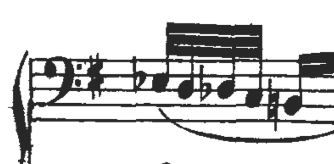bass_clef: (36, 45, 86, 114)
sharp: (84, 53, 110, 102)
